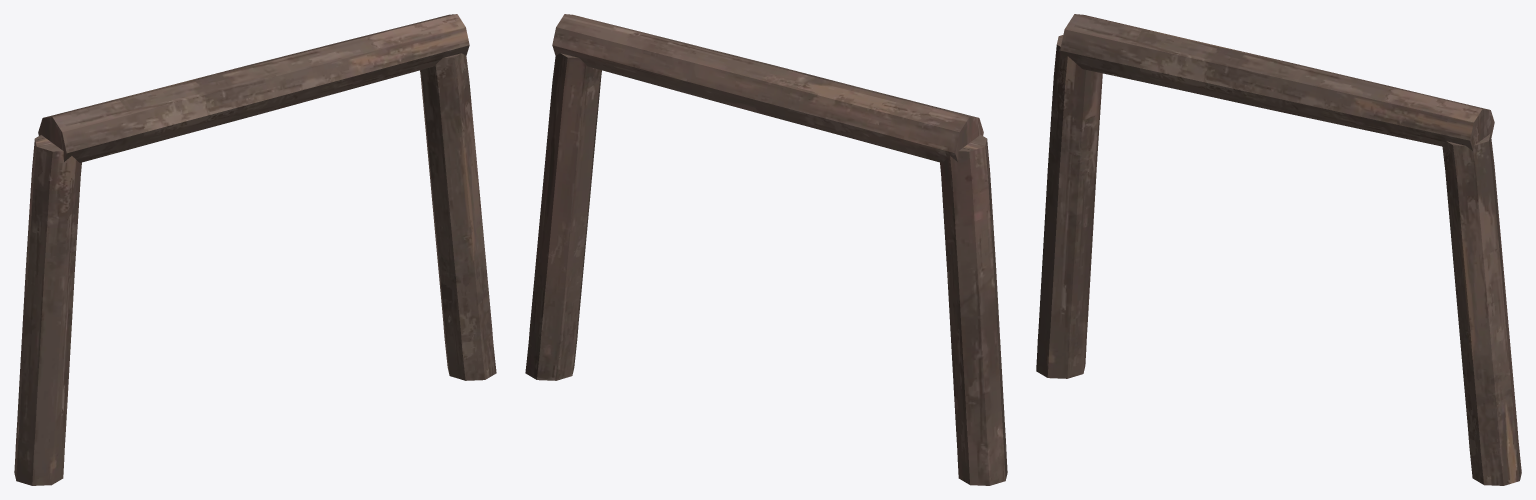
3 renders of one model, left to right at view 1: azimuth 30°, elevation 25°; view 2: azimuth 150°, elevation 25°; view 3: azimuth 330°, elevation 25°, orthographic.
Visible parts, largest first — view 1: body0_model0_lod0_mesh0; view 2: body0_model0_lod0_mesh0; view 3: body0_model0_lod0_mesh0.
Boxes of the visible parts, <box> form: body0_model0_lod0_mesh0: <box>14,14,496,485</box>; body0_model0_lod0_mesh0: <box>525,14,1007,485</box>; body0_model0_lod0_mesh0: <box>1036,14,1521,485</box>.
Bounding box in the file's own units: 255 × 183 × 26.33.
Materials: 1 (1 with a texture image).
